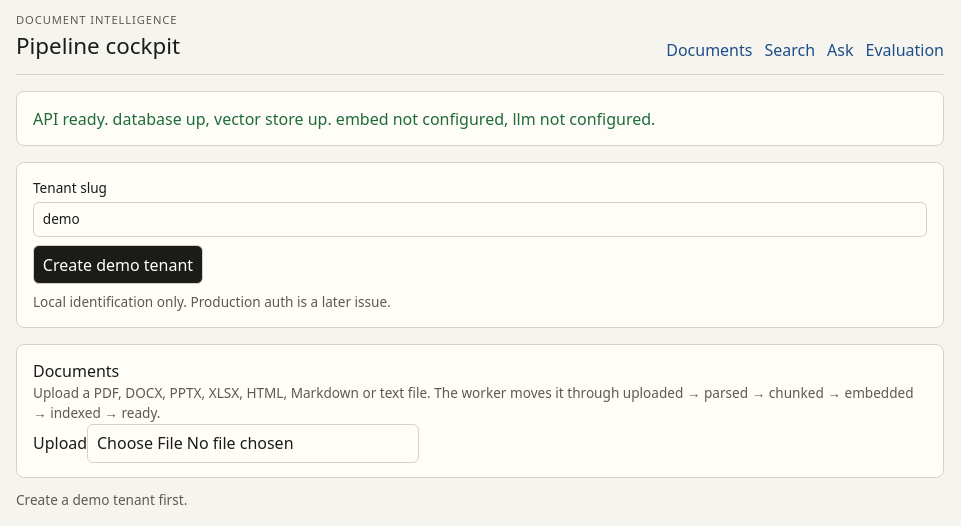
Scenario: shared tenant state › lets the documents page use a tenant created in the shell without a reload
Expected: the text "Create a demo tenant first." is shown, x1=16 y1=490 x2=187 y2=509
Expected: the file field labelled "Upload" is disabled, x1=87 y1=424 x2=419 y2=463
Click the button "Create demo tenant". click: (118, 264)
box: x1=33 y1=245 x2=203 y2=284
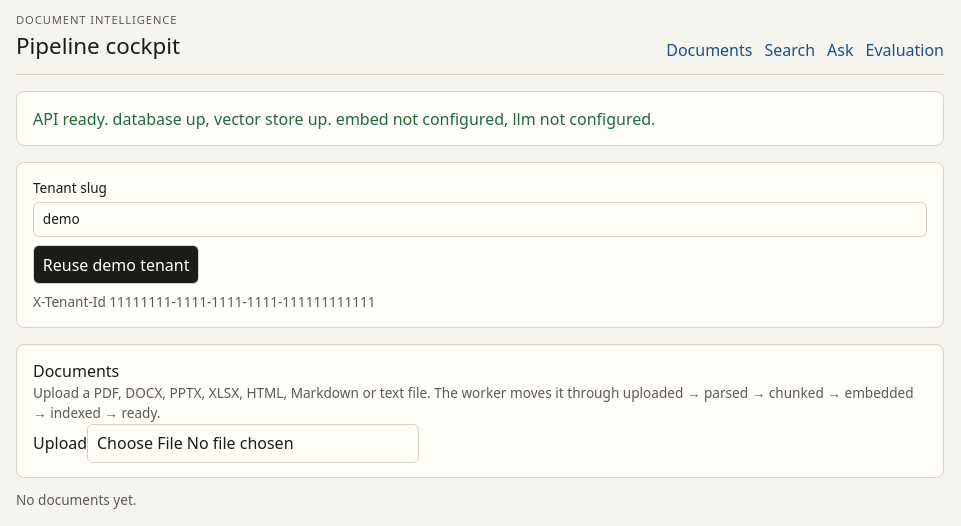
Expected: the file field labelled "Upload" is enabled, x1=87 y1=424 x2=419 y2=463
Result: the text "No documents yet." is shown at x1=16 y1=490 x2=136 y2=509
Result: the text "X-Tenant-Id 11111111-1111-1111-1111-111111111111" is shown at x1=33 y1=292 x2=376 y2=311
